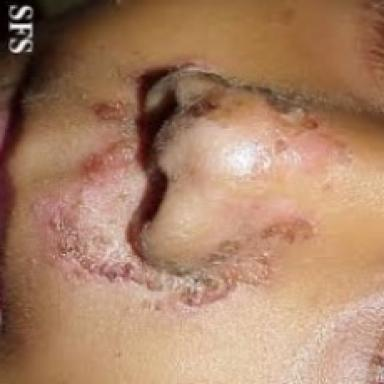Impetigo: (36, 98, 316, 310), (161, 54, 318, 160)
